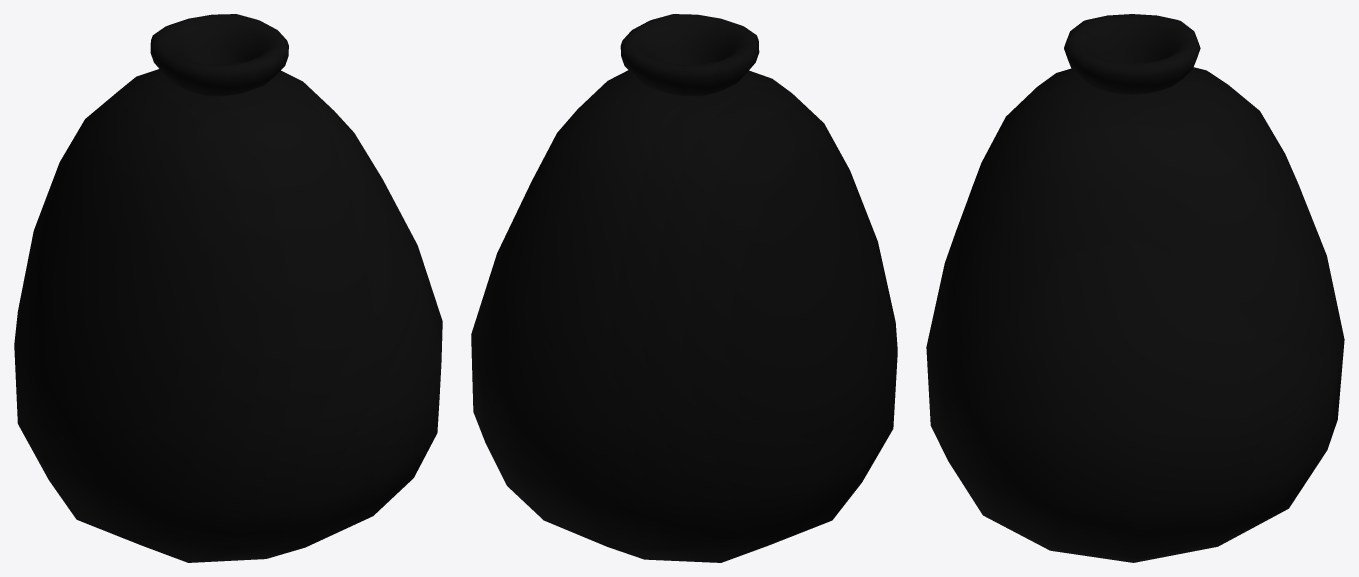
File: trash-bag.glb
The picture shows the model from 3 angles, left to right: view 1: azimuth 30°, elevation 25°; view 2: azimuth 150°, elevation 25°; view 3: azimuth 270°, elevation 25°; orthographic projection.
Visible parts, largest first — view 1: trash_bag; view 2: trash_bag; view 3: trash_bag.
Part boxes in pixels (x1,y1,x2,y2): trash_bag: (14,14,442,562); trash_bag: (471,14,897,562); trash_bag: (926,14,1344,562).
Size of the model in its own units: 0.8583 by 1.1 by 0.8403.
1 material, 1 textured.
